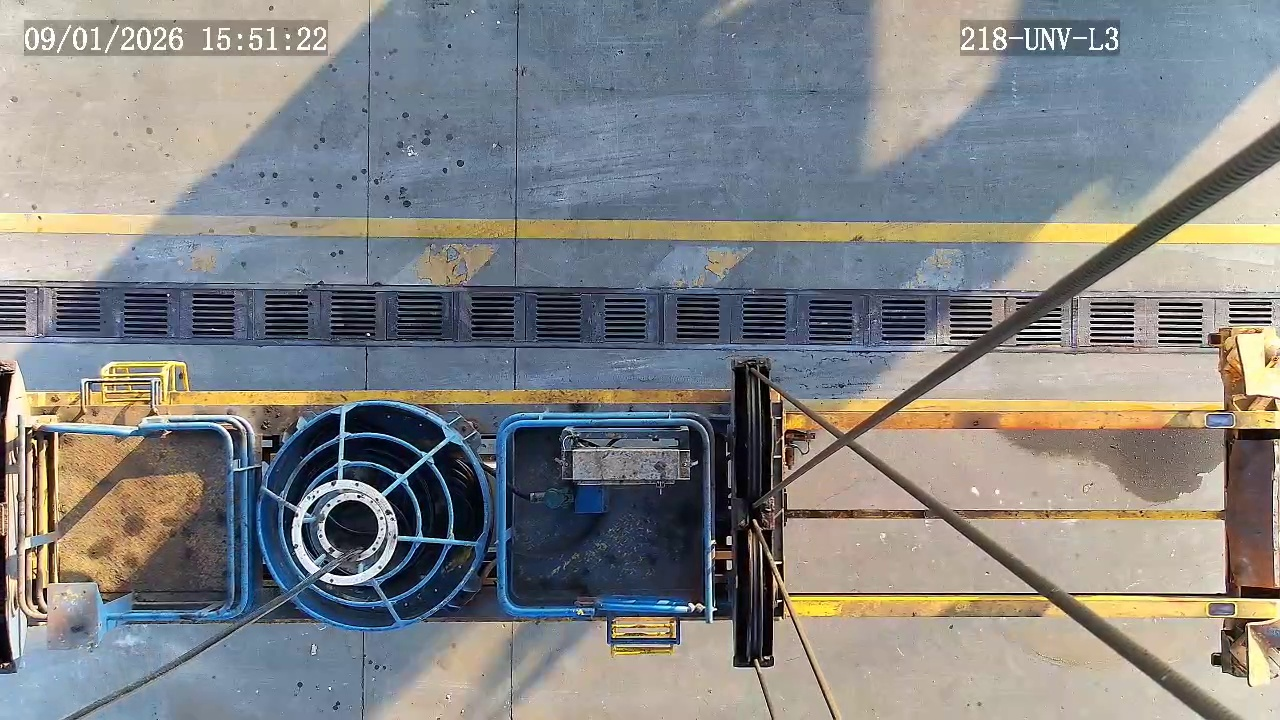right: (289, 479, 399, 586)
